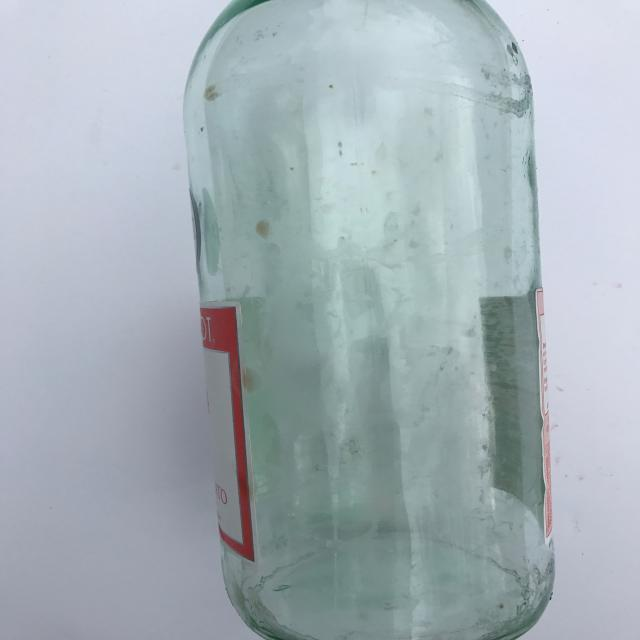glass: (180, 1, 554, 640)
